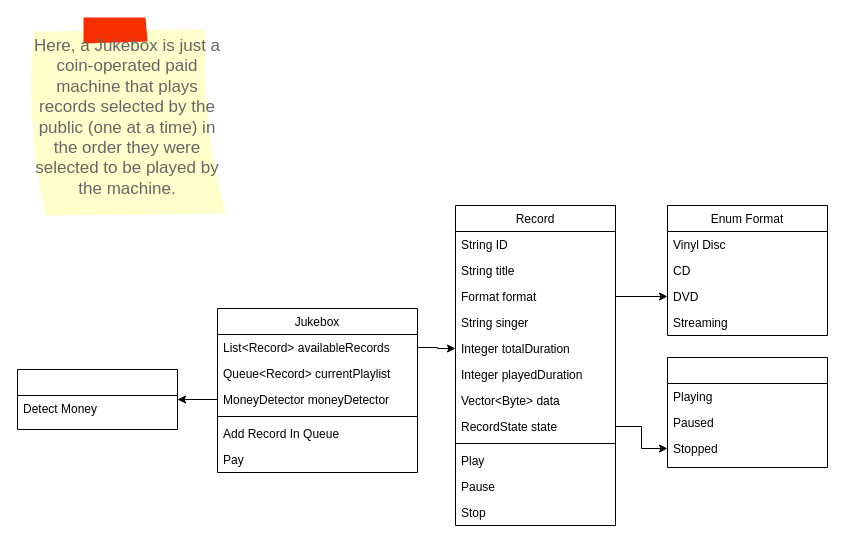
The diagram is 845 pixels wide and 546 high, and some of its shapes have lost their labels. The shapes that lost their labels are listed below. From the top down, each one's box as (x1, y1, x2, y2) in pixels, then its label:
(16, 368, 178, 430): MoneyDetector
(666, 356, 828, 468): Enum RecordState
